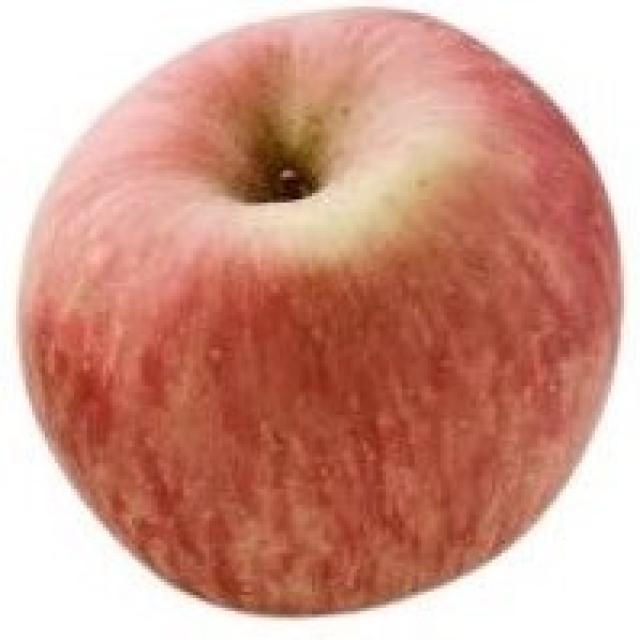75-_ripeness: (25, 9, 612, 621)
